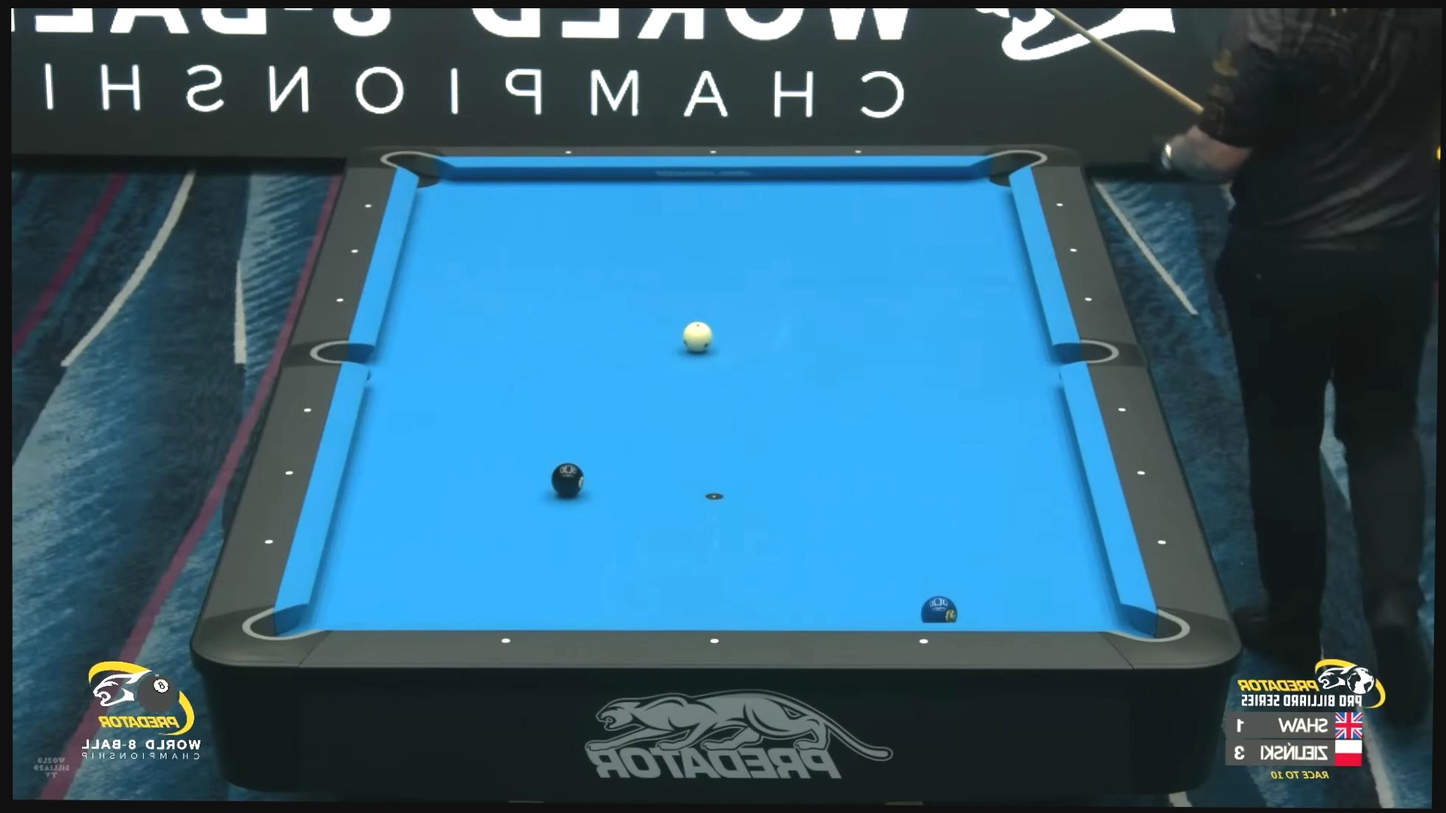Black: (550, 462, 584, 496)
Cue: (681, 322, 712, 353)
Solid: (1158, 537, 1169, 548), (1136, 468, 1147, 479), (1116, 404, 1127, 415), (1082, 294, 1093, 305), (1054, 199, 1065, 210), (707, 146, 718, 157), (1068, 245, 1079, 255), (853, 146, 863, 157), (563, 147, 574, 157), (349, 246, 360, 256), (335, 294, 345, 305), (302, 405, 313, 415), (284, 468, 294, 479), (263, 537, 274, 547), (919, 636, 930, 646), (363, 201, 373, 211), (502, 636, 512, 646), (711, 635, 721, 645)
Striped: (920, 596, 956, 625)
